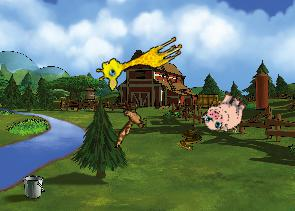eagle: (110, 99, 149, 148)
giraffe: (92, 25, 186, 94)
pig: (198, 85, 252, 140)
